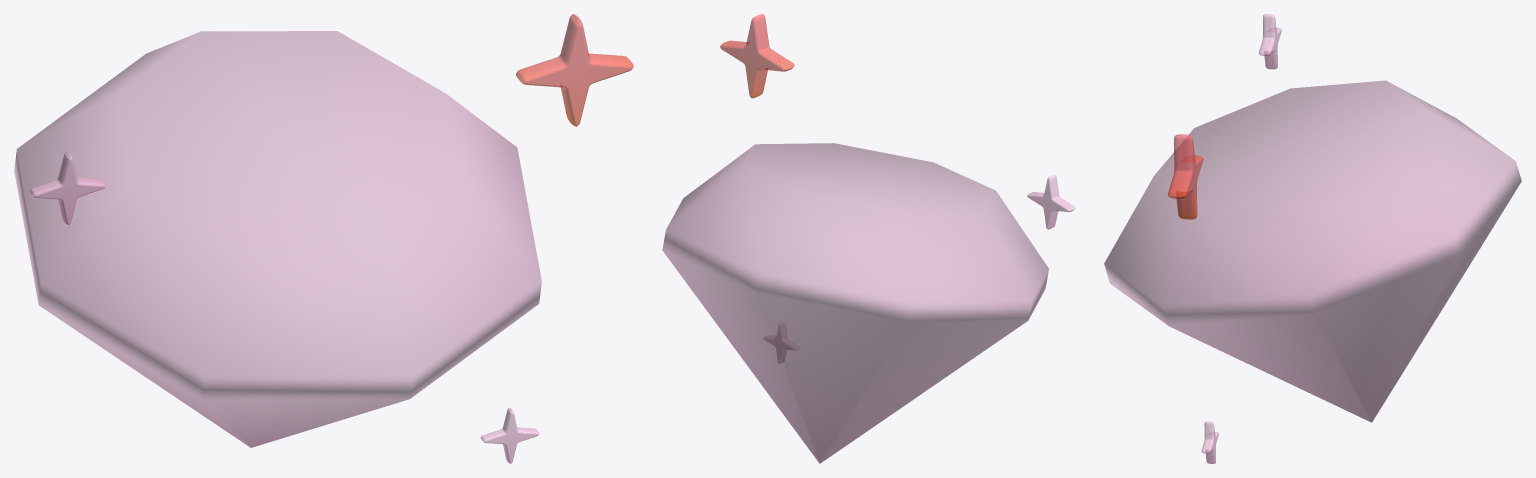
Rendered from shiny-gem.glb.
3 renders of one model, left to right at view 1: azimuth 30°, elevation 25°; view 2: azimuth 150°, elevation 25°; view 3: azimuth 270°, elevation 25°, orthographic. The views are drawn at different scales.
Parts seen in each view (by area): view 1: gem, glint_1, glint_2, glint_3; view 2: gem, glint_1, glint_2, glint_3; view 3: gem, glint_1, glint_2, glint_3.
Part boxes in pixels (left/top/right/bottom): gem: left=14, top=31, right=541, bottom=447; glint_1: left=515, top=14, right=633, bottom=126; glint_2: left=29, top=152, right=105, bottom=224; glint_3: left=480, top=407, right=539, bottom=463; gem: left=662, top=143, right=1048, bottom=463; glint_1: left=720, top=14, right=794, bottom=98; glint_2: left=1027, top=174, right=1075, bottom=229; glint_3: left=764, top=322, right=799, bottom=363; gem: left=1104, top=80, right=1521, bottom=422; glint_1: left=1167, top=134, right=1203, bottom=219; glint_2: left=1258, top=14, right=1281, bottom=69; glint_3: left=1201, top=421, right=1219, bottom=463.
Size of the model in its own units: 0.8628 by 0.7194 by 0.7438.
